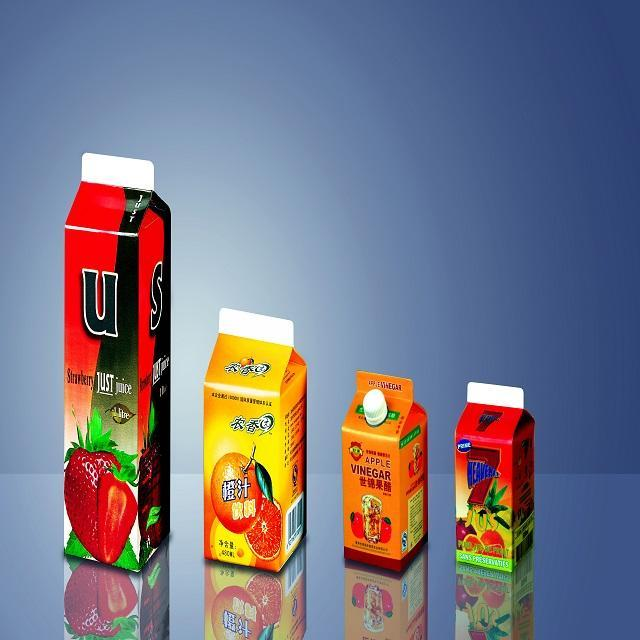Carton: (58, 136, 180, 574), (198, 296, 317, 588), (336, 362, 434, 582), (448, 373, 547, 582)
